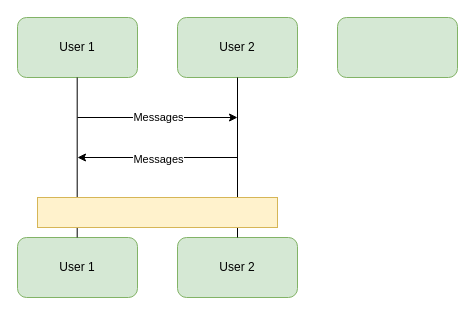
The diagram is 475 pixels wide and 315 high, and some of its shapes have lost their labels. Each missing label, with the centre of its shape:
"Both now posses a valid signature" goes at point 157,212.
"User 3" goes at point 397,47.
